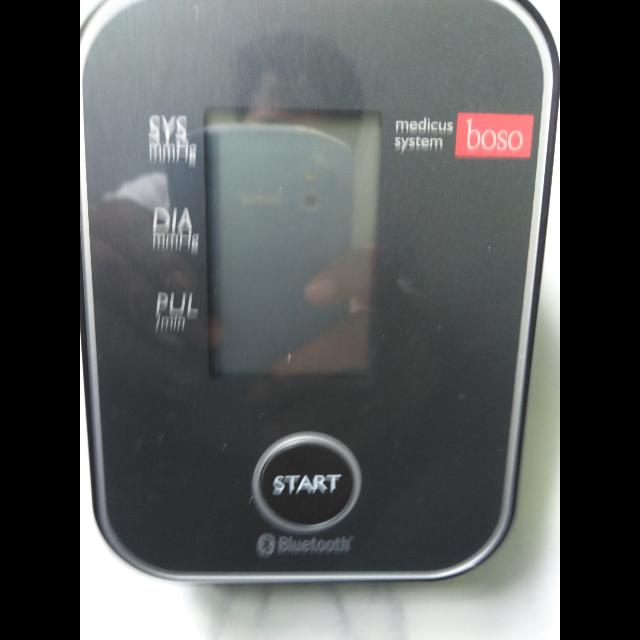Blood-Pressure-Monitor: (86, 0, 560, 592)
